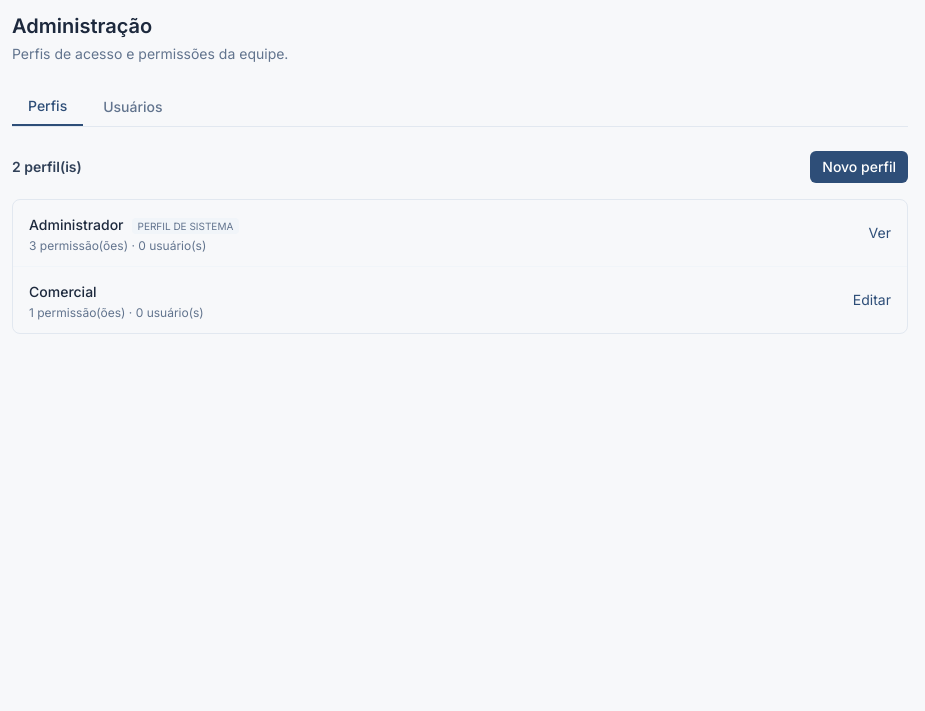
AdminPage (spec 004) › aba Perfis: "marcar recurso" alterna todas as permissões do grupo
The image size is (925, 711).
What coordinates should you click on to do the following:
click the button "Novo perfil"
I would click on:
 (859, 167)
Its box is [810,151,908,183].
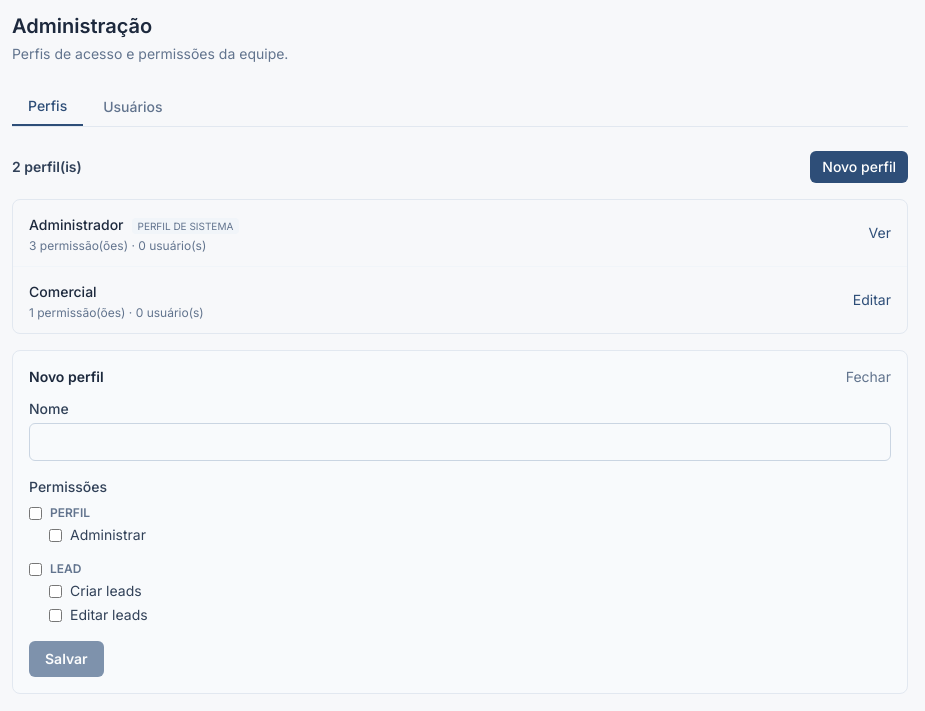
Result: the heading "Novo perfil" is shown at [29,367,104,387]
Result: the checkbox labelled "lead" is not checked
What coordinates should you click on to do the following:
click the checkbox labelled "lead"
I would click on:
 (36, 569)
Its box is [29,562,42,576].
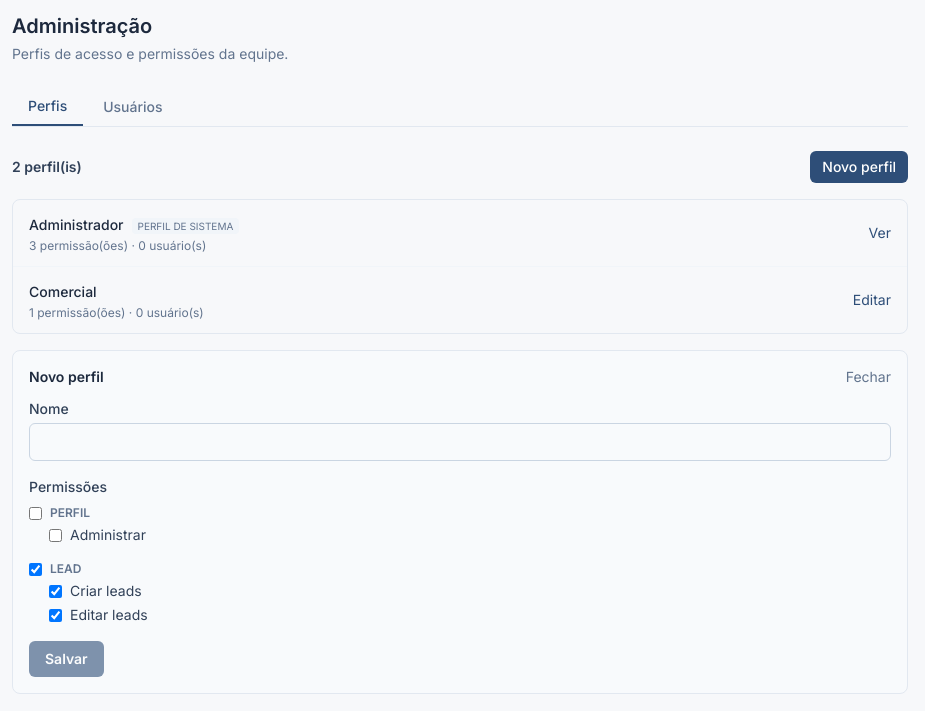
Result: the checkbox labelled "Criar leads" is checked at [49,584,62,598]
Result: the checkbox labelled "Editar leads" is checked at [49,608,62,622]
